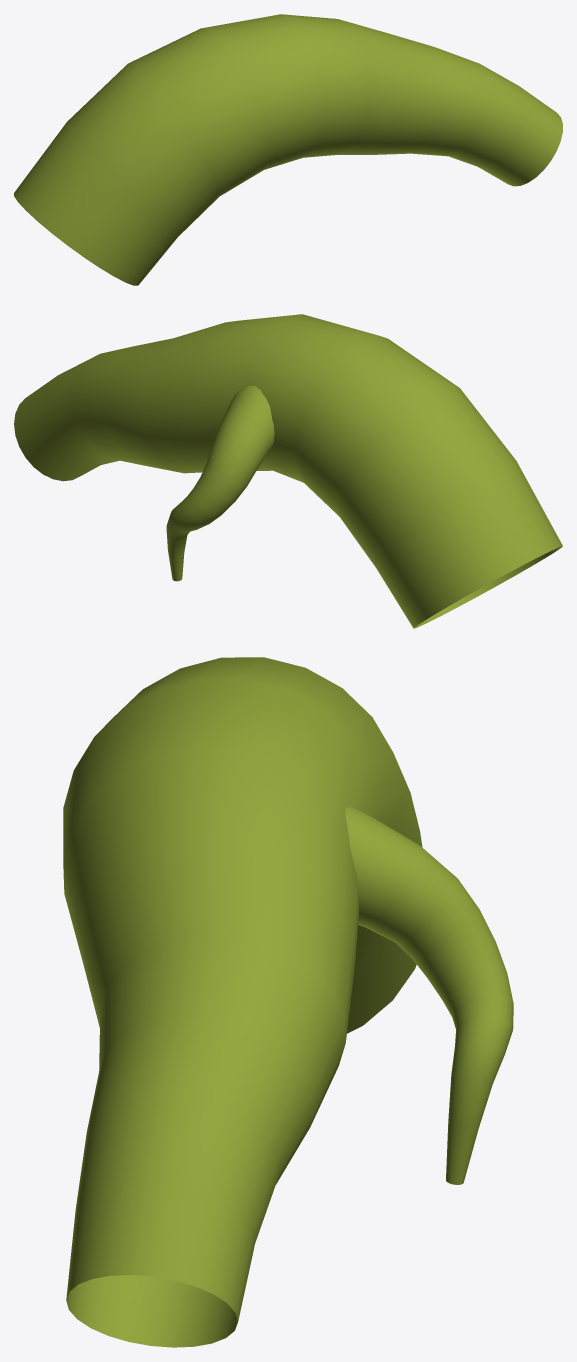
Rendered from vine1.fbx.
The picture shows the model from 3 angles, top to bottom: view 1: azimuth 30°, elevation 25°; view 2: azimuth 150°, elevation 25°; view 3: azimuth 270°, elevation 25°; orthographic projection. The views are drawn at different scales.
Visible parts, largest first — view 1: Plane.017; view 2: Plane.017; view 3: Plane.017.
Boxes of the visible parts, box(x1,y1,x2,y2) form: Plane.017: box(14, 14, 562, 285); Plane.017: box(14, 314, 562, 628); Plane.017: box(63, 657, 513, 1347).
Bounding box in the file's own units: 597 × 256 × 231.
